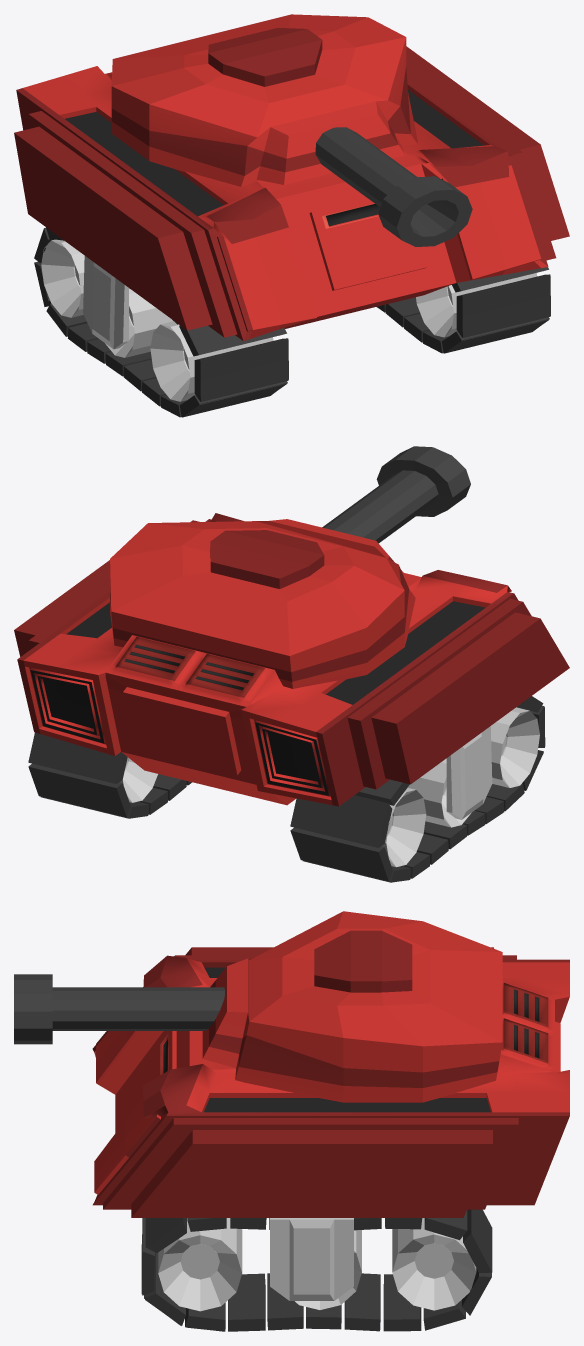
Rendered from tank2(material).fbx.
3 renders of one model, top to bottom at view 1: azimuth 30°, elevation 25°; view 2: azimuth 150°, elevation 25°; view 3: azimuth 270°, elevation 25°, orthographic. The views are drawn at different scales.
Visible parts, largest first — view 1: Cube.002, Ndase, Cylinder.001, Cube.000, Cube.001, Cylinder; view 2: Cube.002, Ndase, Cube.000, Cylinder.001, Cube.001, Cylinder; view 3: Cube.002, Ndase, Cylinder, Cube.001.
Boxes of the visible parts, x1=… form: Cube.002: x1=14, y1=46, x2=569, y2=341; Ndase: x1=111, y1=14, x2=472, y2=246; Cylinder.001: x1=41, y1=239, x2=273, y2=401; Cube.000: x1=34, y1=227, x2=288, y2=417; Cube.001: x1=376, y1=267, x2=550, y2=353; Cylinder: x1=416, y1=273, x2=537, y2=337; Cube.002: x1=14, y1=513, x2=569, y2=806; Ndase: x1=110, y1=446, x2=470, y2=688; Cube.000: x1=290, y1=696, x2=545, y2=882; Cylinder.001: x1=381, y1=707, x2=539, y2=867; Cube.001: x1=28, y1=732, x2=191, y2=818; Cylinder: x1=119, y1=757, x2=157, y2=802; Cube.002: x1=92, y1=947, x2=569, y2=1217; Ndase: x1=14, y1=911, x2=502, y2=1102; Cylinder: x1=158, y1=1218, x2=476, y2=1311; Cube.001: x1=141, y1=1209, x2=492, y2=1331.
Bounding box in the file's own units: 1110 × 746 × 1323.
